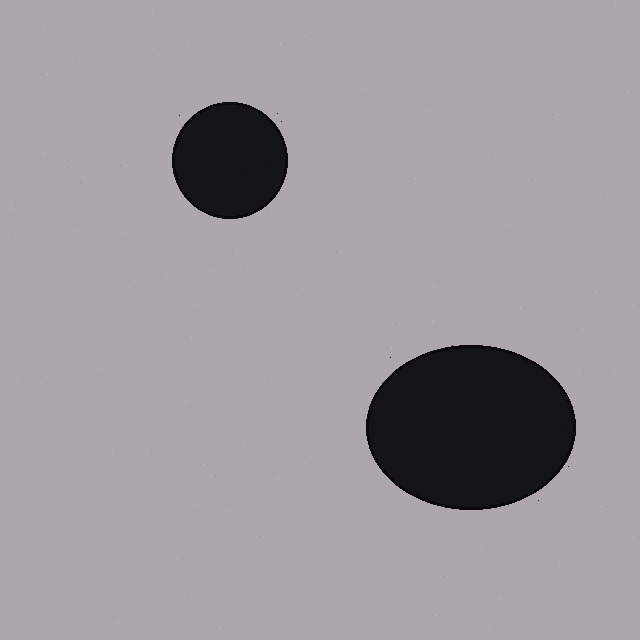pothole: (366, 345, 575, 509), (172, 102, 287, 218)
